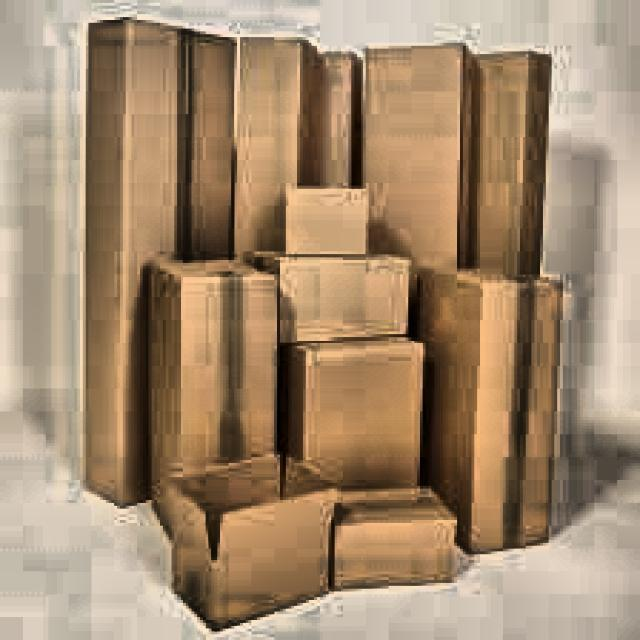cardboard: (83, 14, 563, 632)
